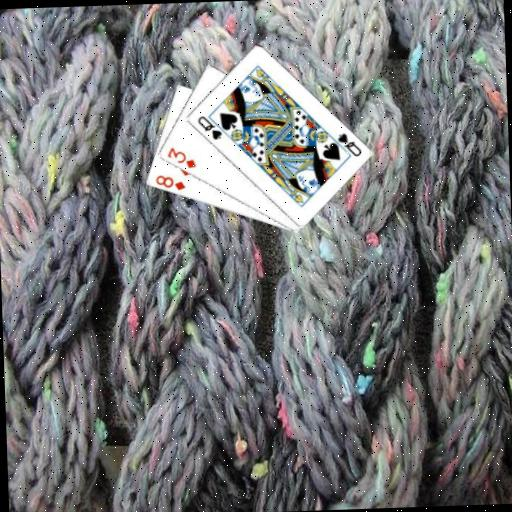3D: (164, 143, 197, 171)
8D: (152, 171, 187, 192)
QS: (194, 112, 223, 142), (334, 129, 362, 159)
